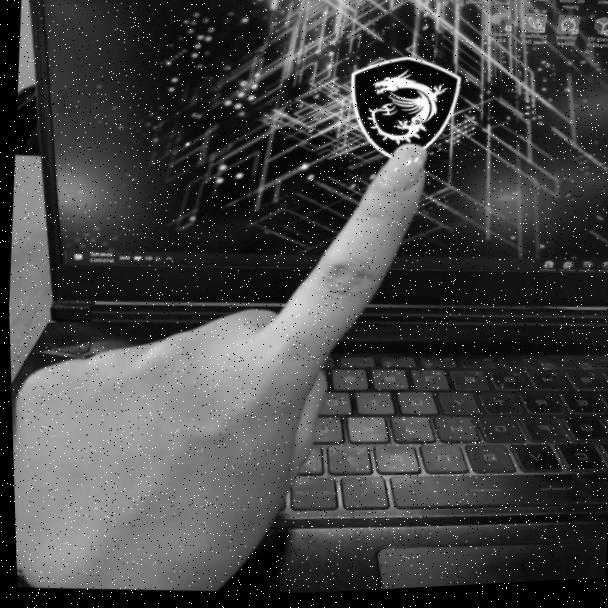one: (7, 114, 451, 577)
